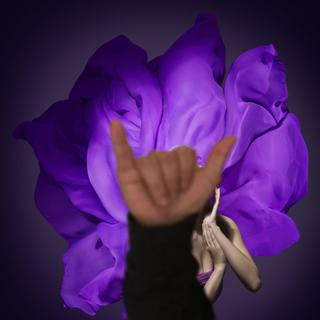HAVE: (99, 114, 243, 228)
